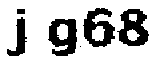6: (82, 6, 115, 49)
8: (120, 8, 151, 48)
g: (45, 15, 80, 60)
j: (3, 4, 30, 60)
